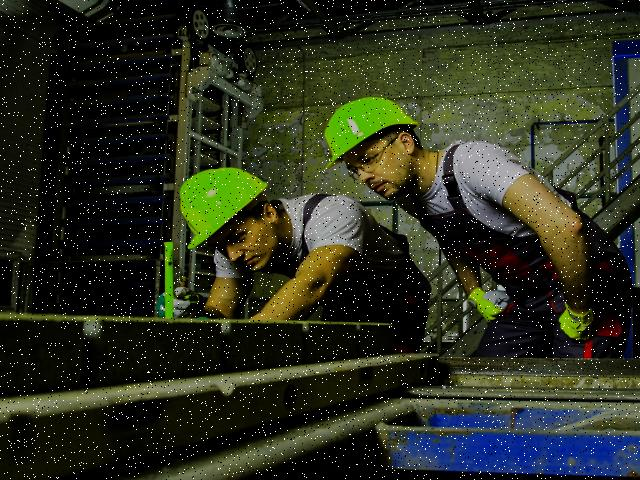Helmet: (173, 164, 271, 255), (318, 91, 423, 174)
